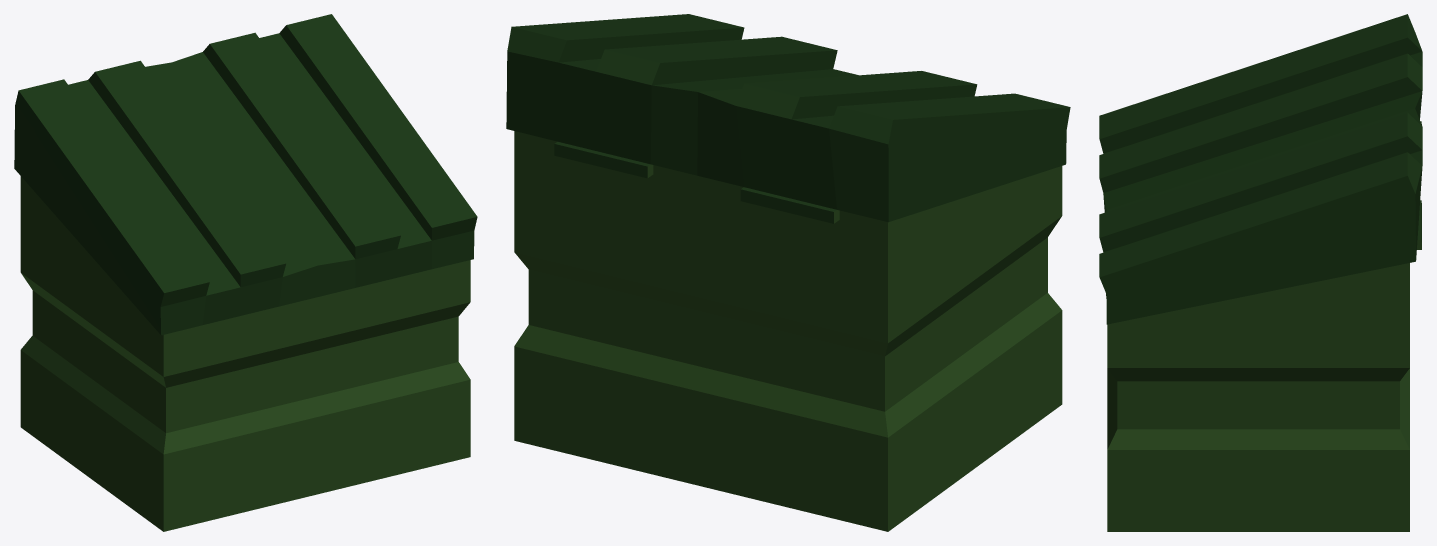
File: Dumpster 3.fbx
The picture shows the model from 3 angles, left to right: view 1: azimuth 30°, elevation 25°; view 2: azimuth 150°, elevation 25°; view 3: azimuth 270°, elevation 25°; orthographic projection. The views are drawn at different scales.
Visible parts, largest first — view 1: dustbin.004, Dumpster 3; view 2: Dumpster 3, dustbin.004; view 3: dustbin.004, Dumpster 3.
Boxes of the visible parts, x1=… form: dustbin.004: x1=14, y1=14, x2=477, y2=335; Dumpster 3: x1=20, y1=176, x2=470, y2=531; Dumpster 3: x1=514, y1=131, x2=1062, y2=531; dustbin.004: x1=506, y1=14, x2=1070, y2=223; dustbin.004: x1=1099, y1=14, x2=1422, y2=324; Dumpster 3: x1=1107, y1=263, x2=1409, y2=531.
Size of the model in its own units: 1.52 by 1.28 by 1.57.
